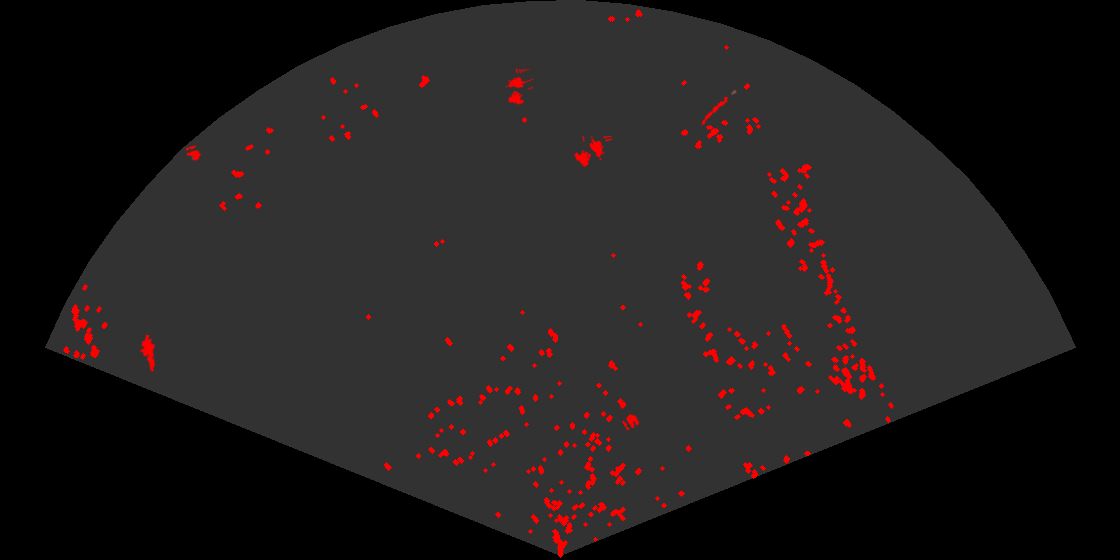ball: (620, 413, 641, 432), (184, 144, 202, 162)
cage: (572, 136, 612, 169), (504, 69, 533, 106)
chain: (698, 89, 738, 127)
frogman: (138, 335, 157, 373)
